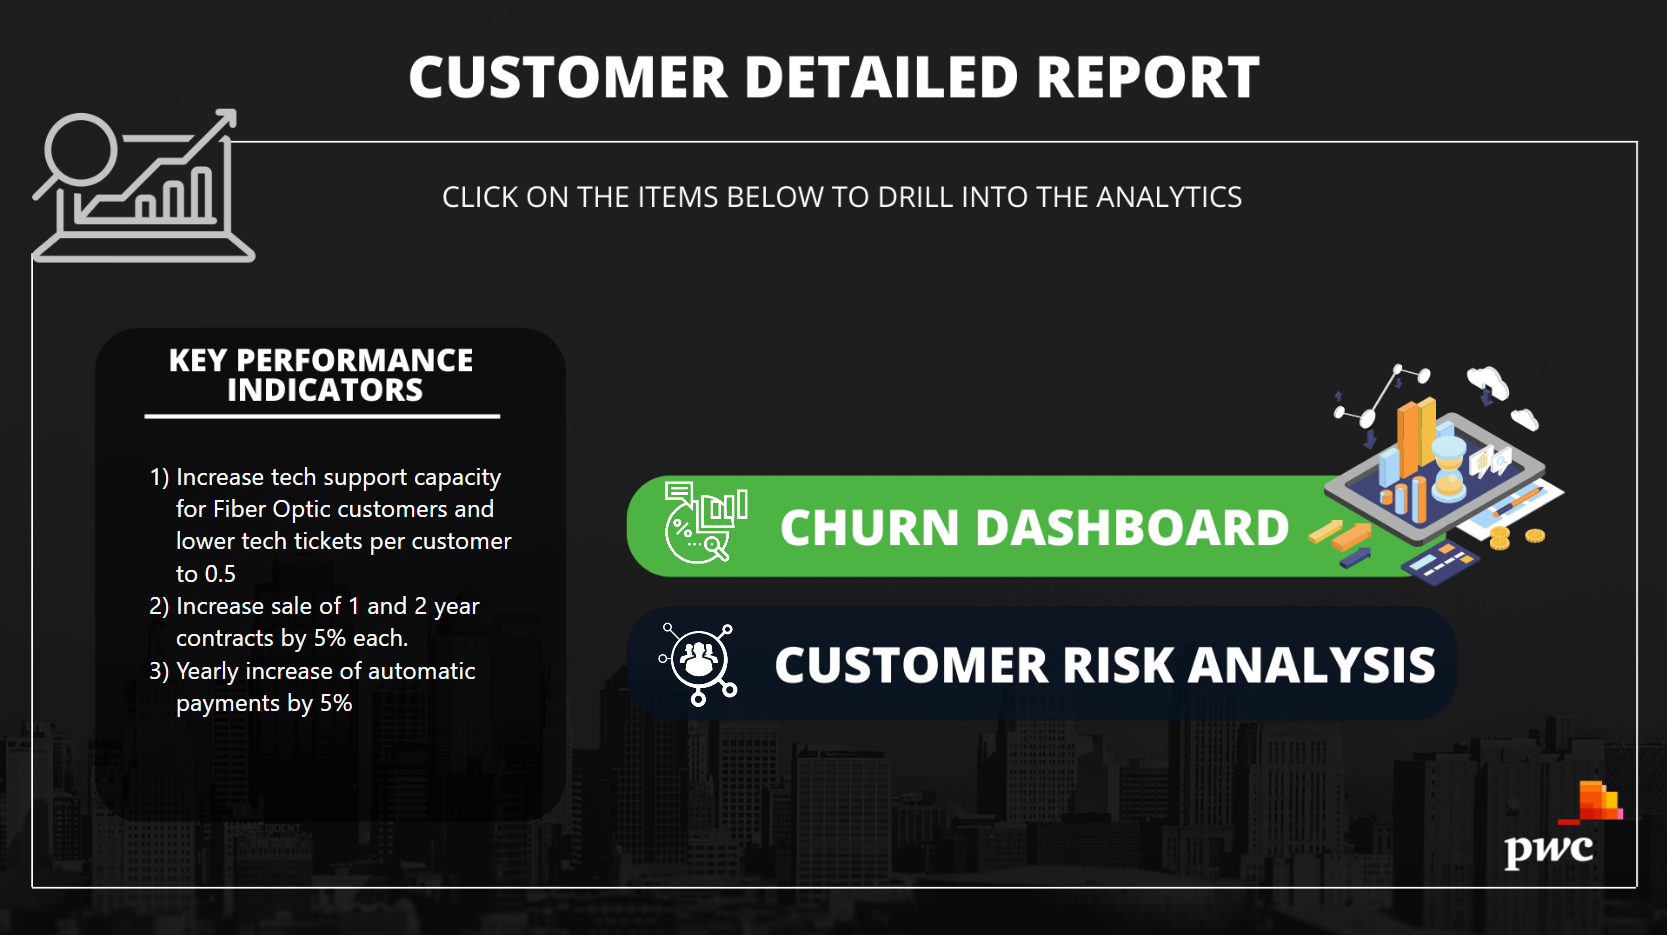

Layout of this report page (visuals, bound fields, positions):
{"tool":"powerbi","page":{"name":"HOME","canvas":[1280,720],"ordinal":0},"visuals":[{"type":"actionButton","box":[502.7,372.2,502.7,63.2],"z":0},{"type":"image","box":[498.1,473.2,74.7,74.7],"z":1},{"type":"image","box":[505.4,363.9,72.8,72.8],"z":3},{"type":"actionButton","box":[505.4,472.4,602.9,65.9],"z":4},{"type":"textbox","box":[109.6,347,300.5,277.3],"z":5}]}

Visuals, with their boxes in screenshot pixels (x1, y1, x2, y2), scaled from the page's 1280x720 canvas onto the 1667x935 screenshot:
actionButton: Rect(655, 483, 1309, 565)
image: Rect(649, 615, 746, 712)
image: Rect(658, 473, 753, 567)
actionButton: Rect(658, 613, 1443, 699)
textbox: Rect(143, 451, 534, 811)
